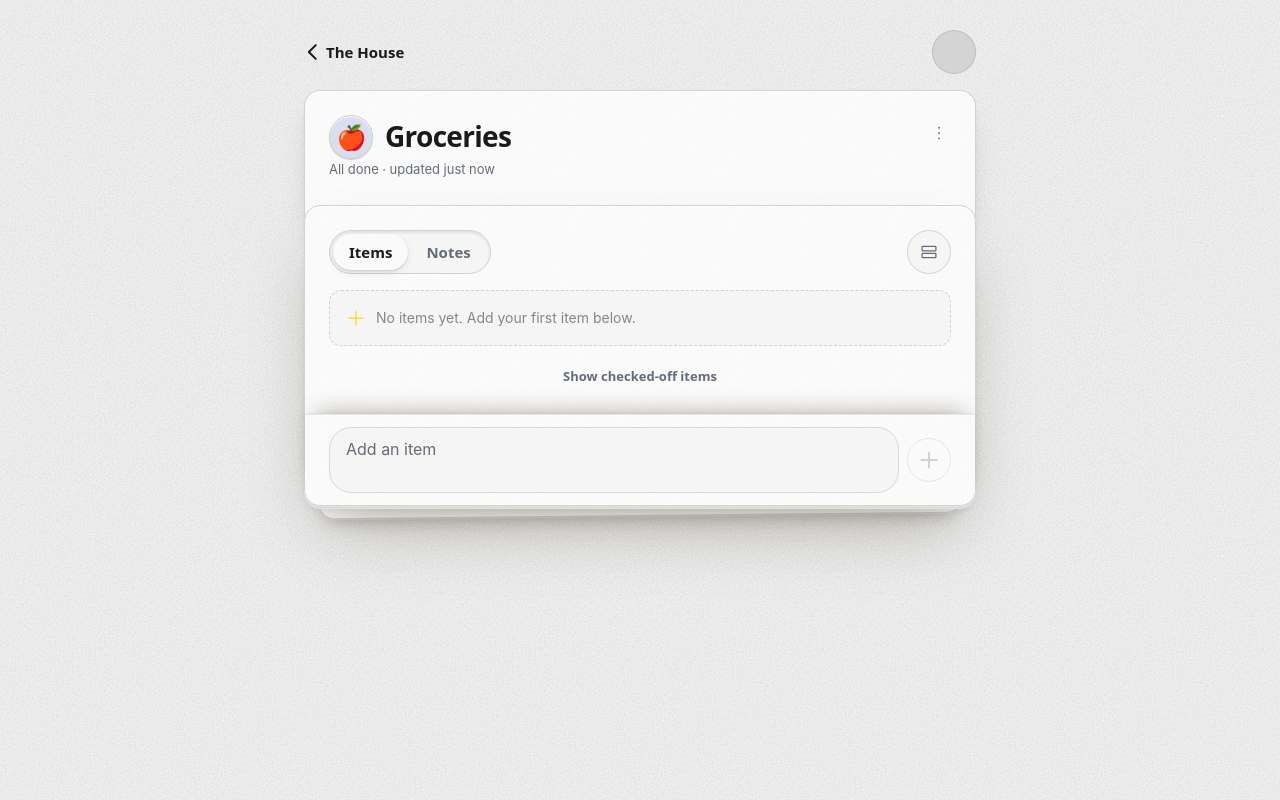
Test case: ListPage add bar › previews the parsed quantity while typing
The image size is (1280, 800).
Type "3 cans tomatoes" into the dropdown with placeholder "Add an item" at (614, 460), box [329, 427, 899, 493]
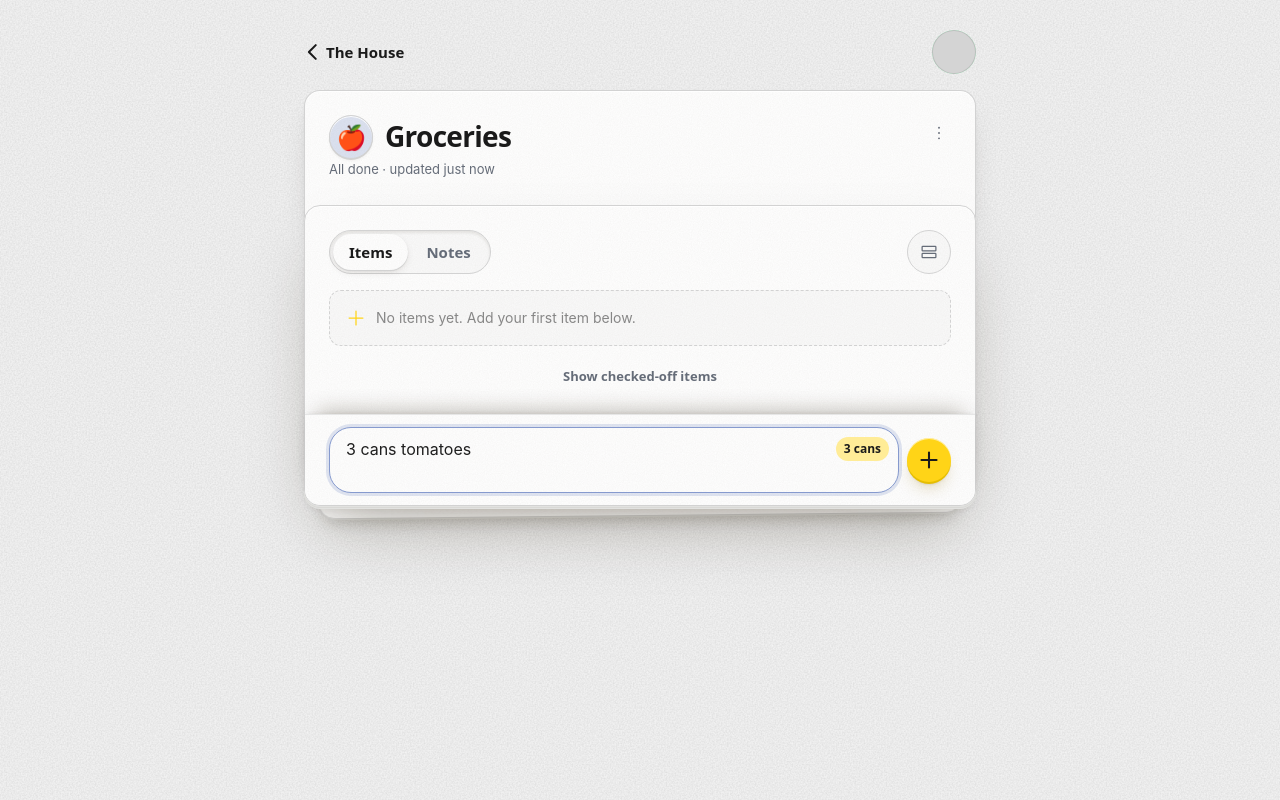
expect the text "3 cans" is shown: met, box [836, 437, 889, 461]
Clear the dropdown with placeholder "Add an item" at (614, 460), box [329, 427, 899, 493]
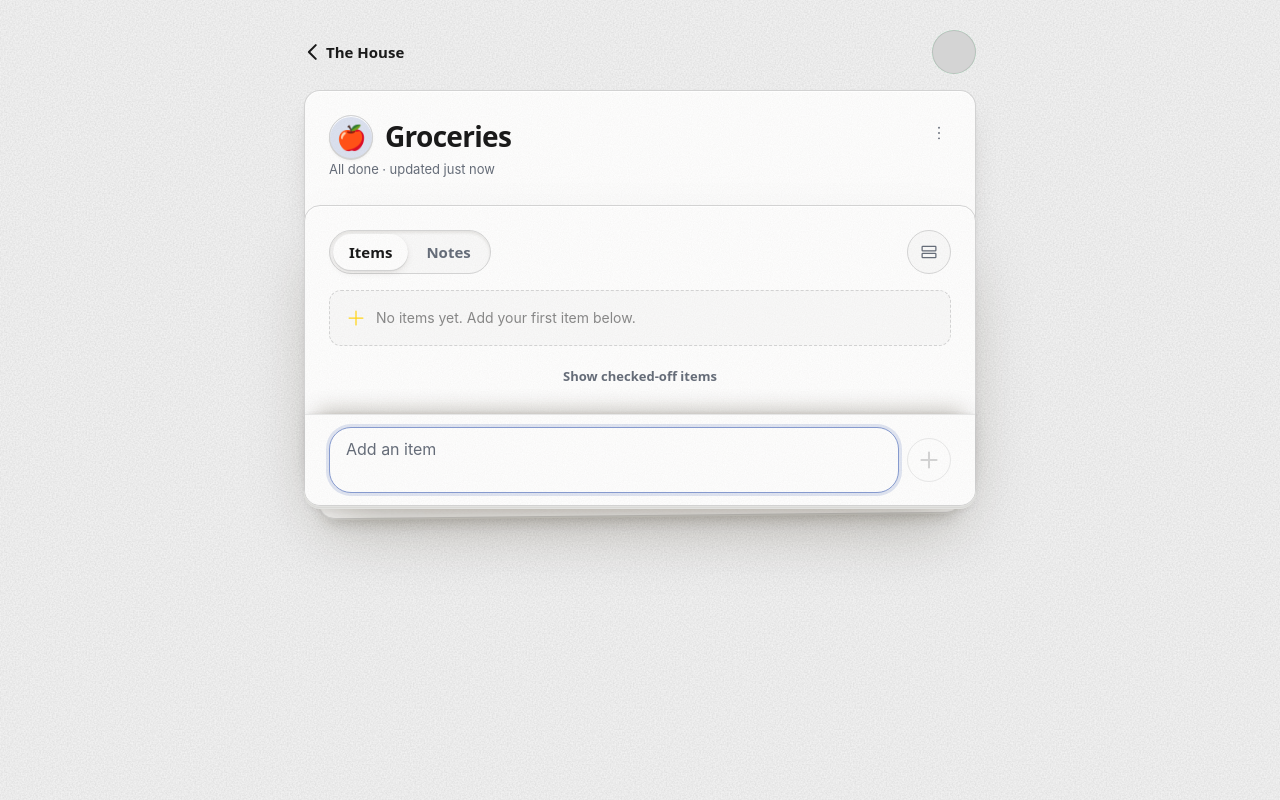
expect the text "3 cans" is gone: met
